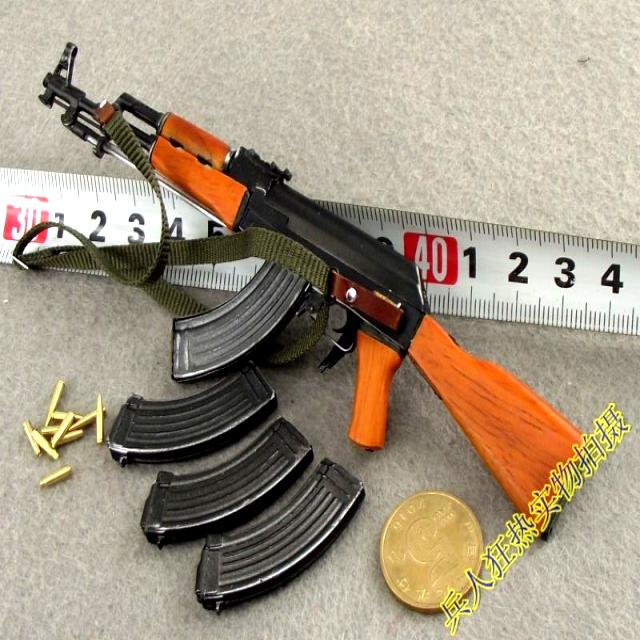ak: (40, 39, 584, 547)
